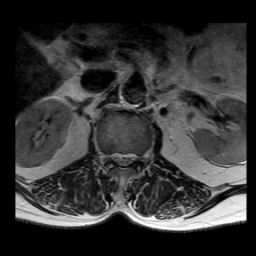CCS_severe_stenosis: (119, 143, 127, 176)
LFS_stenosis: (136, 144, 144, 169)
LLS_normal: (127, 144, 136, 170)
RFS_normal: (103, 144, 110, 168)
RLS_normal: (110, 144, 119, 170)
